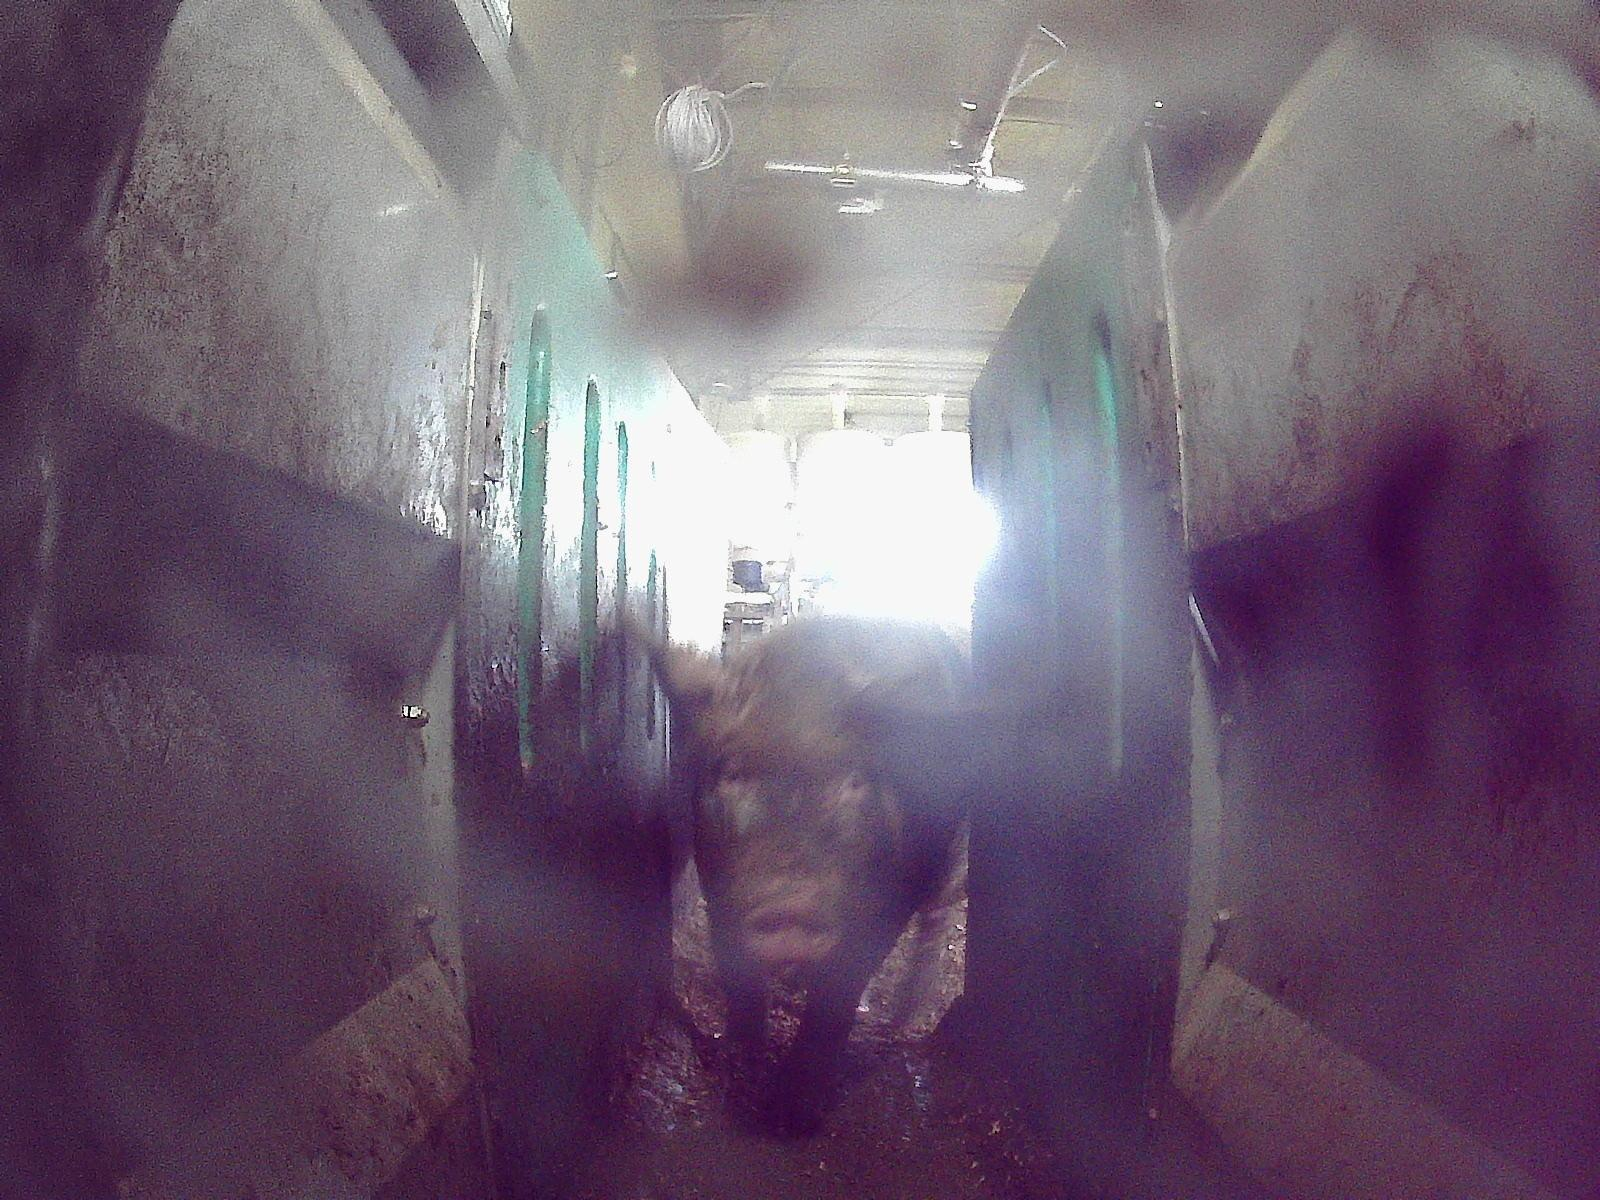Face: (688, 664, 907, 966)
